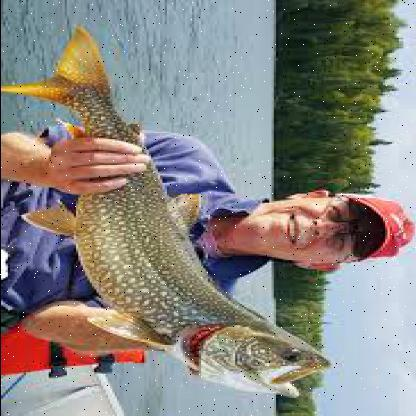fish: (9, 27, 337, 396)
